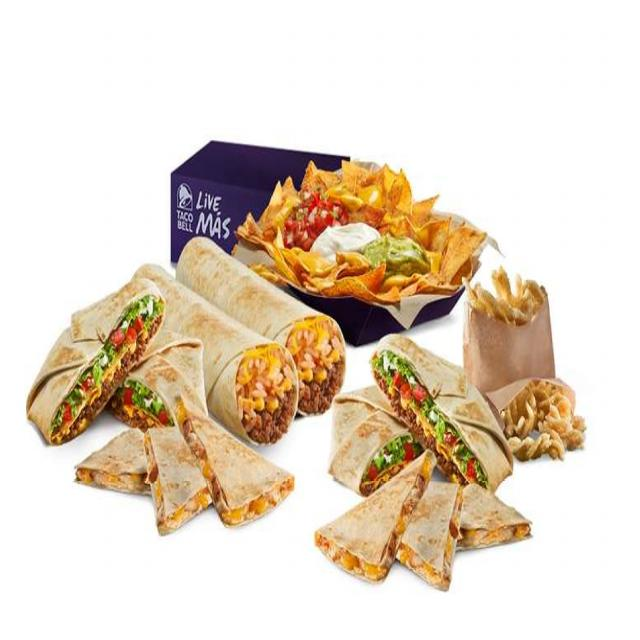French Fries: (456, 268, 563, 371)
